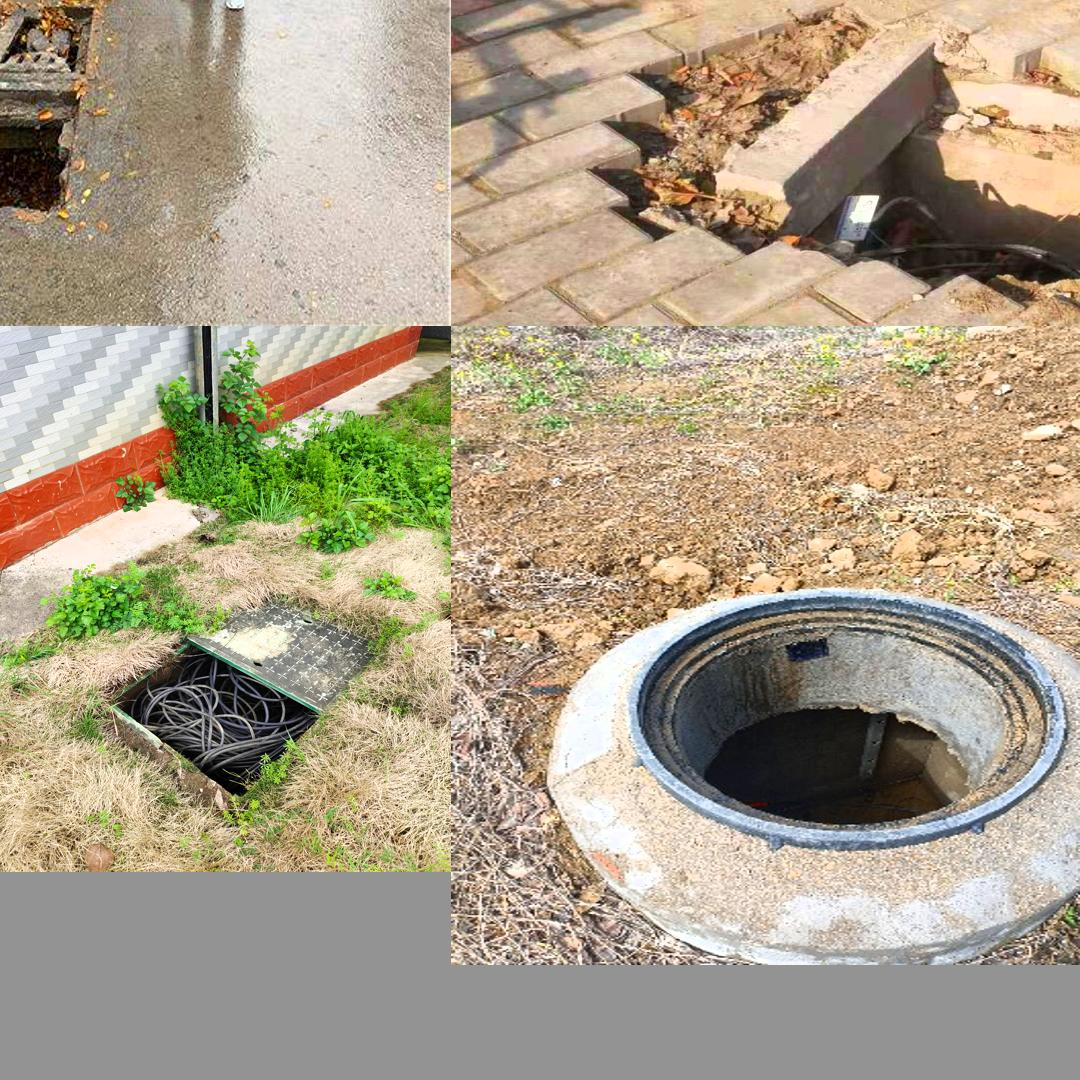lose: (628, 589, 1065, 852), (659, 67, 1080, 326), (105, 637, 323, 799), (0, 0, 103, 222)
